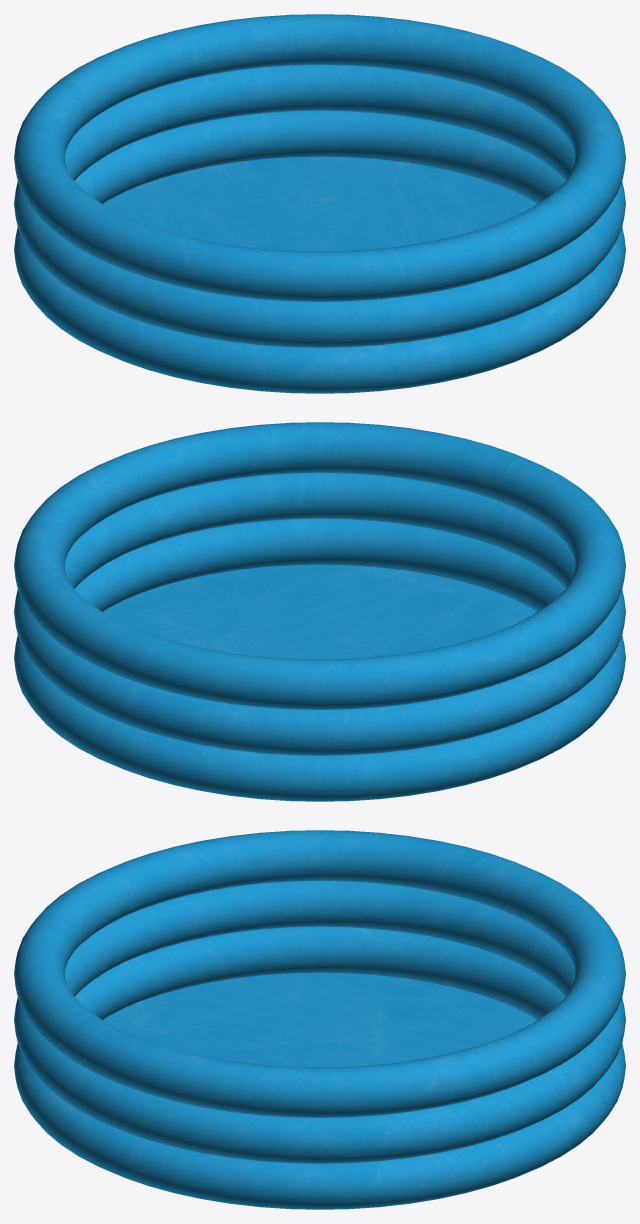
The model's file is pool.glb.
3 renders of one model, top to bottom at view 1: azimuth 30°, elevation 25°; view 2: azimuth 150°, elevation 25°; view 3: azimuth 270°, elevation 25°, orthographic.
Visible parts, largest first — view 1: InflatablePool_InflatablePool_0; view 2: InflatablePool_InflatablePool_0; view 3: InflatablePool_InflatablePool_0.
Boxes of the visible parts, box(x1,y1,x2,y2) form: InflatablePool_InflatablePool_0: box(14, 14, 625, 393); InflatablePool_InflatablePool_0: box(14, 422, 625, 801); InflatablePool_InflatablePool_0: box(14, 830, 625, 1209).
Size of the model in its own units: 1 by 0.2489 by 1.
Materials: 1 (1 with a texture image).
